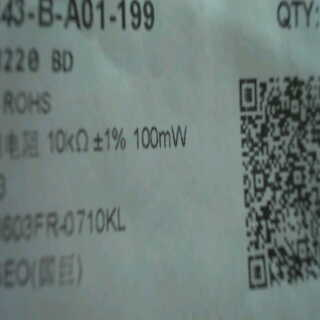10kR: (44, 124, 91, 159)
